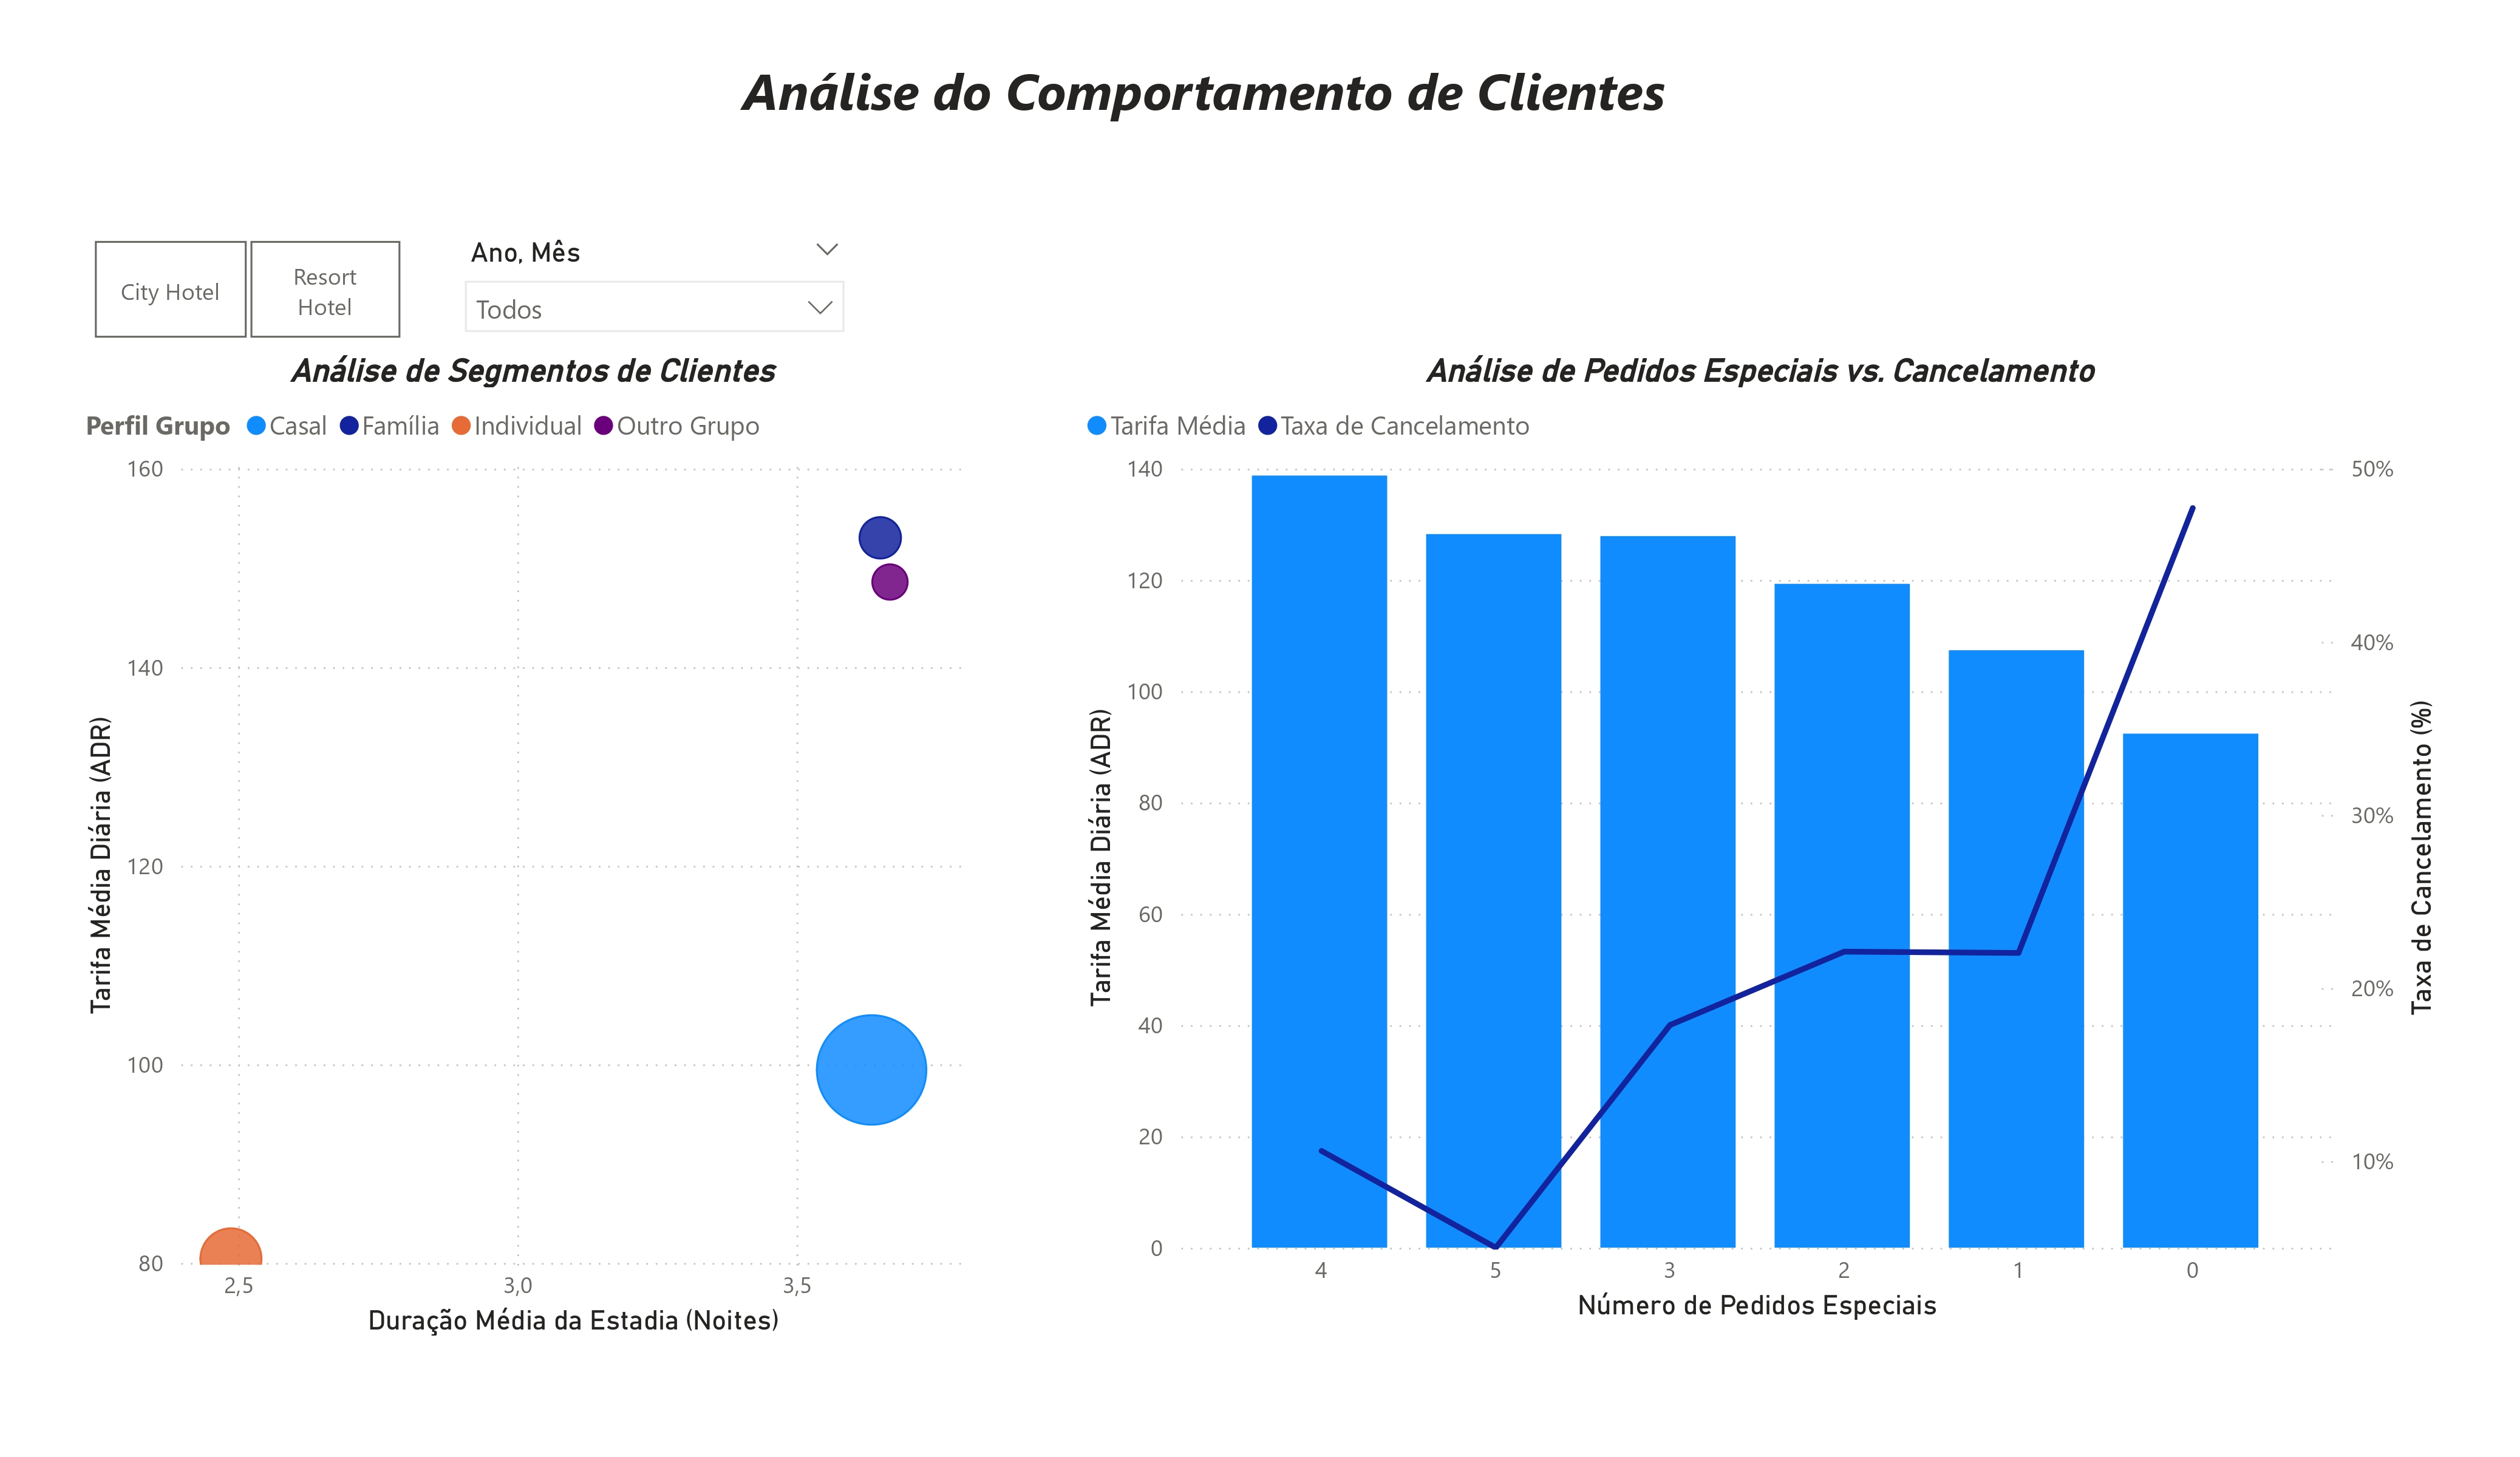

The dashboard page shown, as its layout file describes it:
{"tool":"powerbi","page":{"name":"Análise de Comportamento","canvas":[1280,720],"ordinal":2},"visuals":[{"type":"slicer","fields":{"Values":["hotel_booking_tratado.arrival_date.Variation.Hierarquia de datas.Ano","hotel_booking_tratado.arrival_date.Variation.Hierarquia de datas.Mês"]},"box":[211.1,95.6,220,65.6],"z":0},{"type":"slicer","fields":{"Values":["hotel_booking_tratado.hotel"]},"box":[0,95.6,211.1,65.6],"z":1000},{"type":"textbox","box":[296.7,0,627.8,63.3],"z":2000},{"type":"scatterChart","title":"Análise de Segmentos de Clientes","fields":{"X":["hotel_booking_tratado.Duração_Média_Estadia"],"Y":["hotel_booking_tratado.ADR_médio"],"Series":["hotel_booking_tratado.Perfil Grupo"],"Size":["CountNonNull(hotel_booking_tratado.hotel)"]},"box":[16,161,481,524],"z":3000},{"type":"lineClusteredColumnComboChart","title":"Análise de Pedidos Especiais vs. Cancelamento","fields":{"Category":["hotel_booking_tratado.total_of_special_requests"],"Y":["hotel_booking_tratado.ADR_médio"],"Y2":["hotel_booking_tratado.Taxa_de_Cancelamento"]},"box":[543,161,721,516],"z":4000}]}

Visuals, with their boxes on the page's 1280x720 design canvas (x1, y1, x2, y2). These are canvas units, not pixel positions in the 2520x1457 screenshot, which may show the page scaled, cropped or inside an application window:
slicer - hotel_booking_tratado.arrival_date.Variation.Hierarquia de datas.Ano x hotel_booking_tratado.arrival_date.Variation.Hierarquia de datas.Mês: region(211, 96, 431, 161)
slicer - hotel_booking_tratado.hotel: region(0, 96, 211, 161)
textbox: region(297, 0, 924, 63)
"Análise de Segmentos de Clientes" scatterChart: region(16, 161, 497, 685)
"Análise de Pedidos Especiais vs. Cancelamento" lineClusteredColumnComboChart: region(543, 161, 1264, 677)
